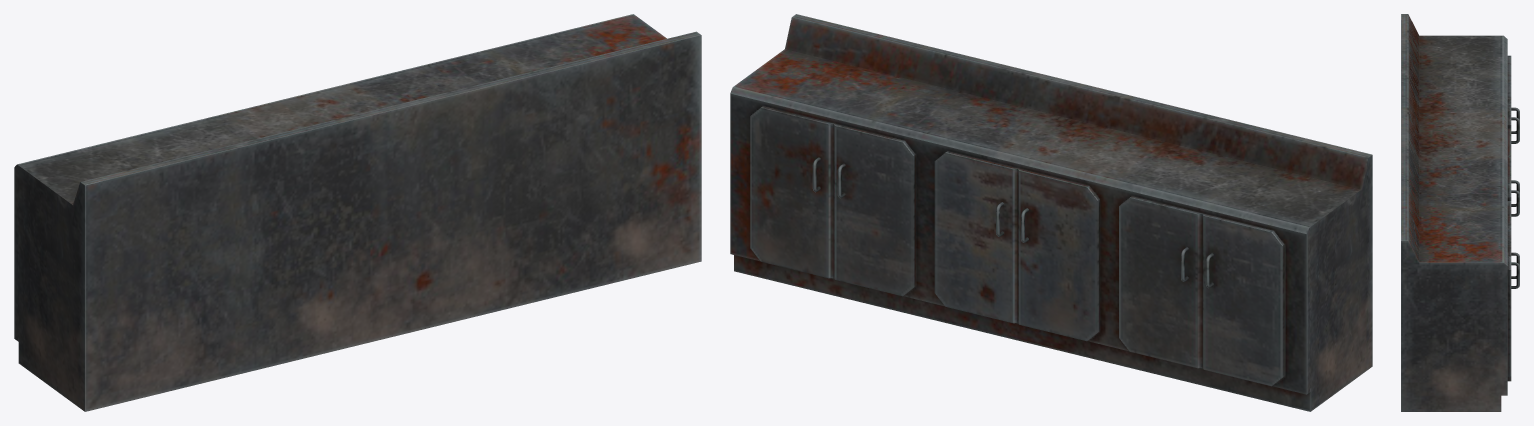
File: Cabinets.FBX
The picture shows the model from 3 angles, left to right: view 1: azimuth 30°, elevation 25°; view 2: azimuth 150°, elevation 25°; view 3: azimuth 270°, elevation 25°; orthographic projection. The views are drawn at different scales.
Parts seen in each view (by area): view 1: Cabinets; view 2: Cabinets; view 3: Cabinets.
Boxes of the visible parts, x1,y1,x2,y2 form: Cabinets: (14,14,701,411); Cabinets: (730,14,1372,411); Cabinets: (1401,14,1519,411).
Bounding box in the file's own units: 274 × 96.18 × 60.69.
